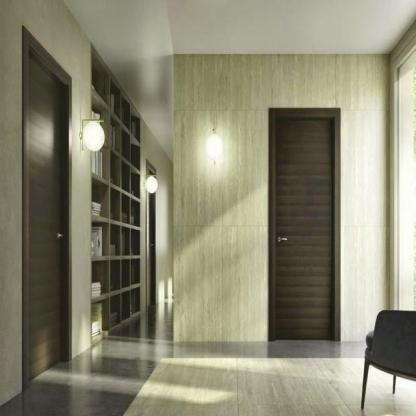door: (265, 101, 349, 352), (20, 20, 76, 395)
